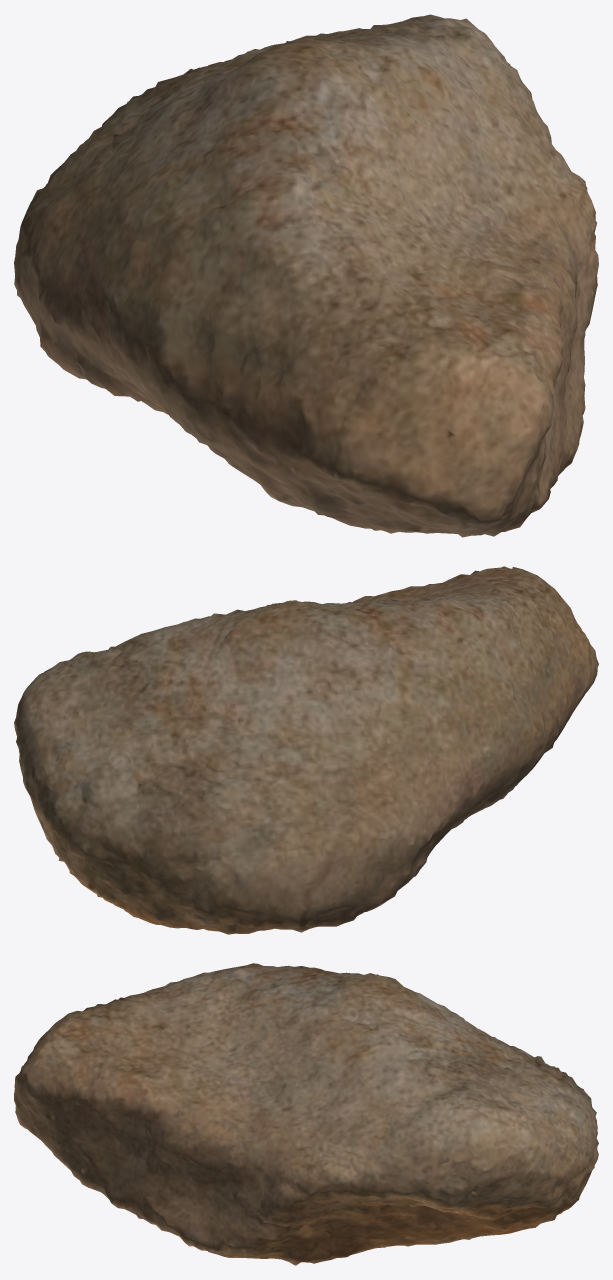
The model's file is namaqualand_boulders_01_b.gltf.
3 views of the same model, one above another, from view 1: azimuth 30°, elevation 25°; view 2: azimuth 150°, elevation 25°; view 3: azimuth 270°, elevation 25° (orthographic). The views are drawn at different scales.
Parts seen in each view (by area): view 1: namaqualand_rocks_01_a; view 2: namaqualand_rocks_01_a; view 3: namaqualand_rocks_01_a.
Part boxes in pixels (x1=…): namaqualand_rocks_01_a: x1=14, y1=14, x2=598, y2=537; namaqualand_rocks_01_a: x1=14, y1=566, x2=598, y2=934; namaqualand_rocks_01_a: x1=14, y1=963, x2=598, y2=1265.
Bounding box in the file's own units: 0.363 × 0.2516 × 0.5511.
1 material, 1 textured.
